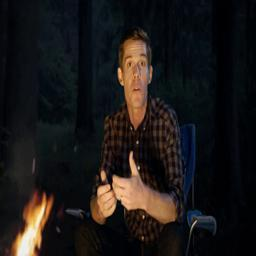fire: (12, 193, 55, 256)
